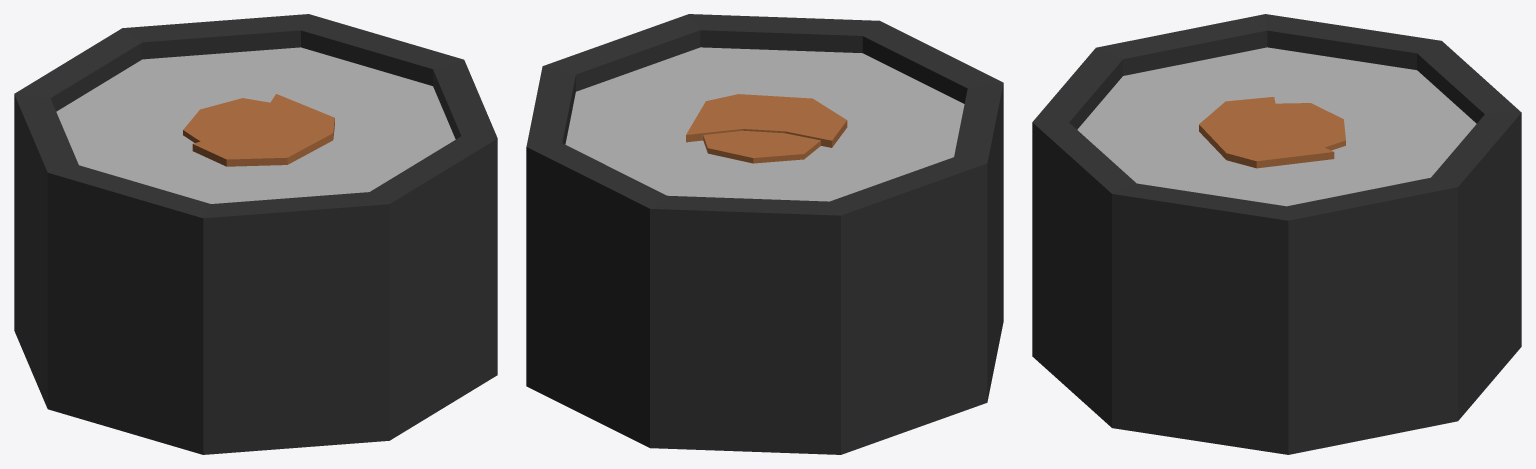
Rendered from sushi_roll1.glb.
3 renders of one model, left to right at view 1: azimuth 30°, elevation 25°; view 2: azimuth 150°, elevation 25°; view 3: azimuth 270°, elevation 25°, orthographic. The views are drawn at different scales.
Parts seen in each view (by area): view 1: Sushi_Roll1; view 2: Sushi_Roll1; view 3: Sushi_Roll1.
Boxes of the visible parts, box(x1,y1,x2,y2) form: Sushi_Roll1: box(14, 14, 497, 454); Sushi_Roll1: box(526, 14, 1003, 454); Sushi_Roll1: box(1032, 14, 1521, 454).
Bounding box in the file's own units: 0.2923 × 0.1543 × 0.2923.
